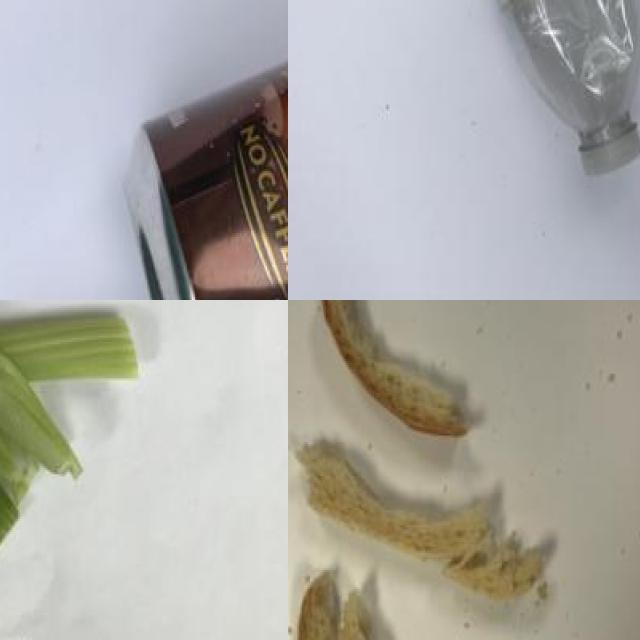compost: (288, 300, 567, 640), (0, 300, 141, 561)
plastic: (128, 0, 288, 300), (420, 0, 640, 186)
